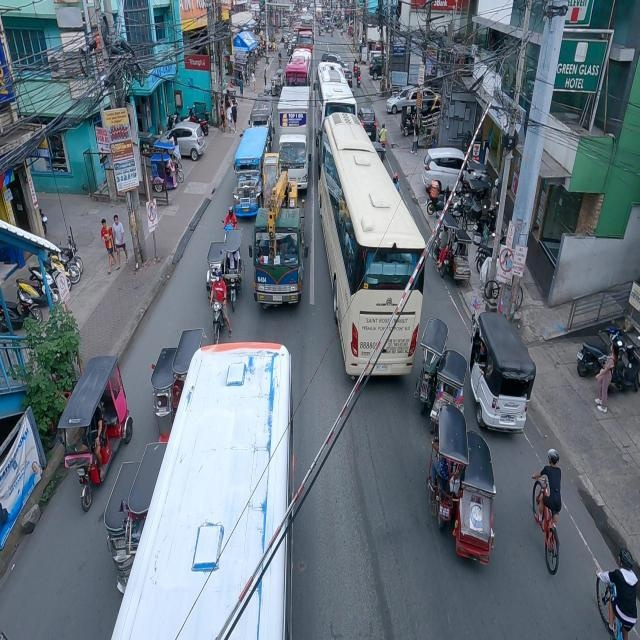Bus: (317, 111, 418, 381)
Motorcycle: (209, 270, 227, 344)
Truck: (252, 162, 306, 304)
